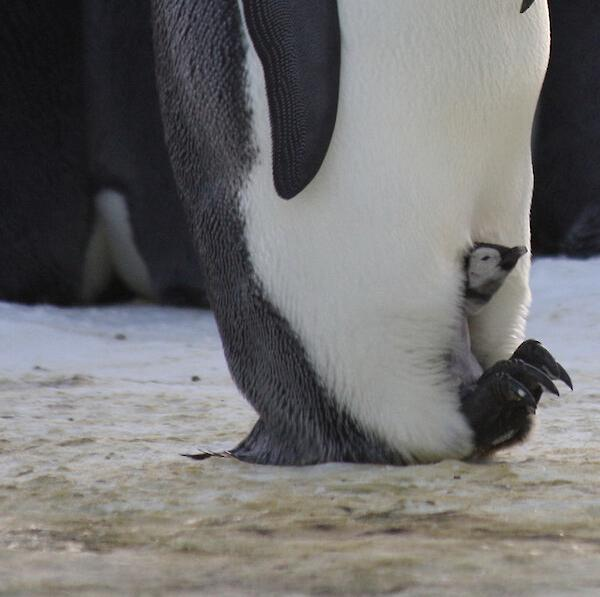Emperor Penguin: (118, 0, 600, 515), (565, 0, 600, 475)
